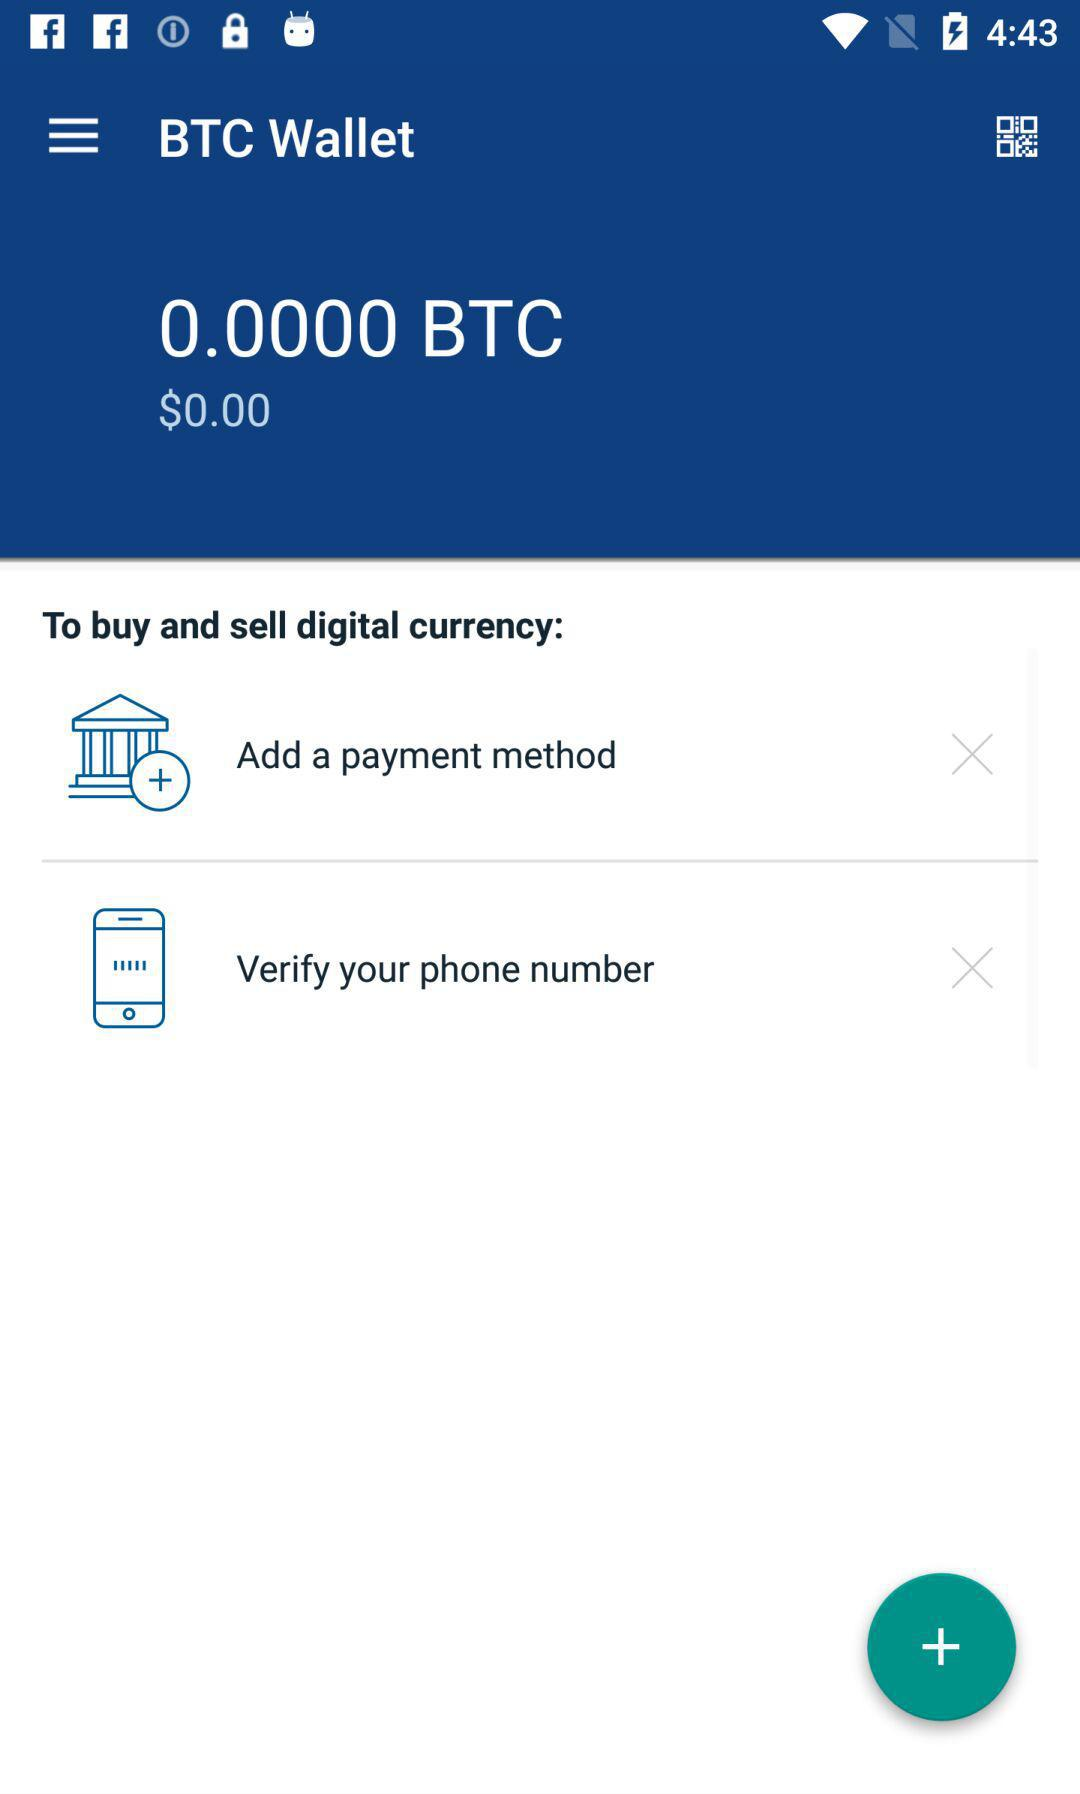Icon: (866, 1572, 1019, 1724), (68, 692, 193, 812), (47, 117, 101, 156), (951, 944, 995, 992), (951, 732, 995, 778)
Image: (94, 907, 167, 1029), (995, 115, 1040, 160)
Text: (161, 299, 565, 360), (44, 610, 565, 648), (236, 953, 656, 991), (236, 739, 616, 778), (160, 117, 416, 160), (159, 387, 272, 433)
UpperTaskBar: (1, 1, 1080, 64)
